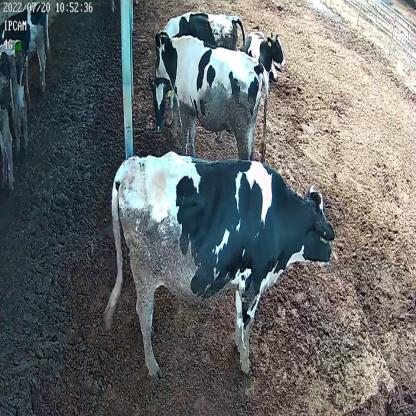cow: (101, 152, 336, 378), (154, 25, 270, 163), (152, 10, 248, 141), (240, 25, 288, 83)
